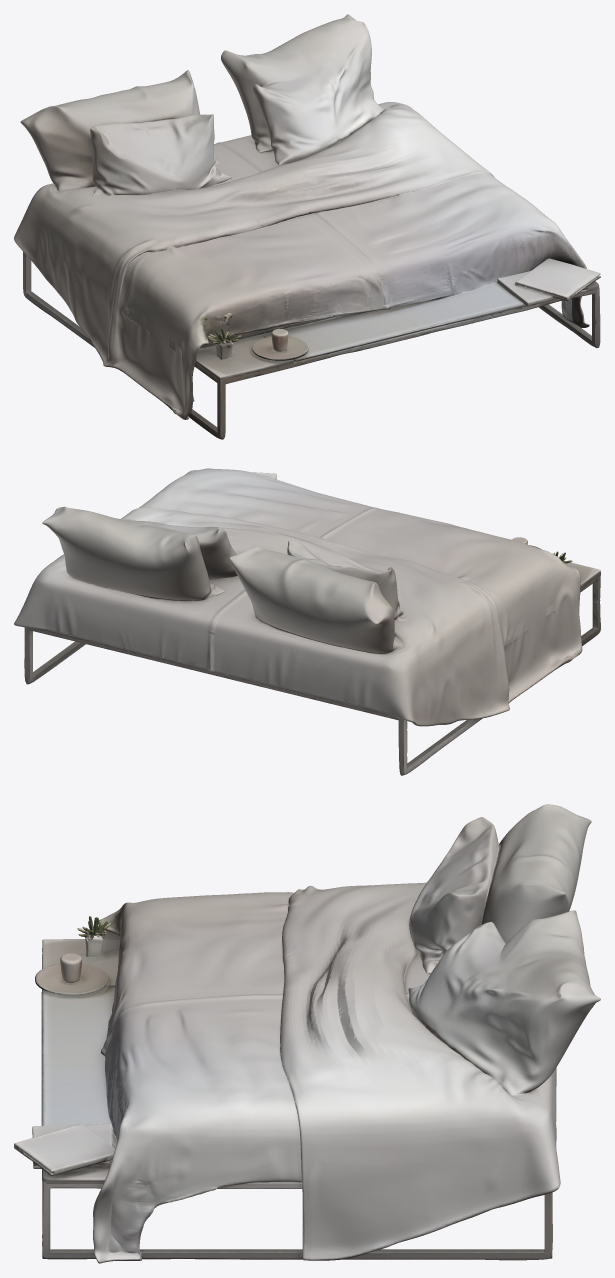
Rendered from modern bed 3d model.glb.
3 views of the same model, one above another, from view 1: azimuth 30°, elevation 25°; view 2: azimuth 150°, elevation 25°; view 3: azimuth 270°, elevation 25° (orthographic). The views are drawn at different scales.
Parts seen in each view (by area): view 1: tripo_node_1c82bb05-953f-4773-afd4-d89a5e7e594e; view 2: tripo_node_1c82bb05-953f-4773-afd4-d89a5e7e594e; view 3: tripo_node_1c82bb05-953f-4773-afd4-d89a5e7e594e.
Boxes of the visible parts, x1,y1,x2,y2 form: tripo_node_1c82bb05-953f-4773-afd4-d89a5e7e594e: (14,14,600,439); tripo_node_1c82bb05-953f-4773-afd4-d89a5e7e594e: (14,468,600,775); tripo_node_1c82bb05-953f-4773-afd4-d89a5e7e594e: (14,804,600,1263).
Size of the model in its own units: 0.9819 by 0.4465 by 0.9567.
Materials: 1 (1 with a texture image).
